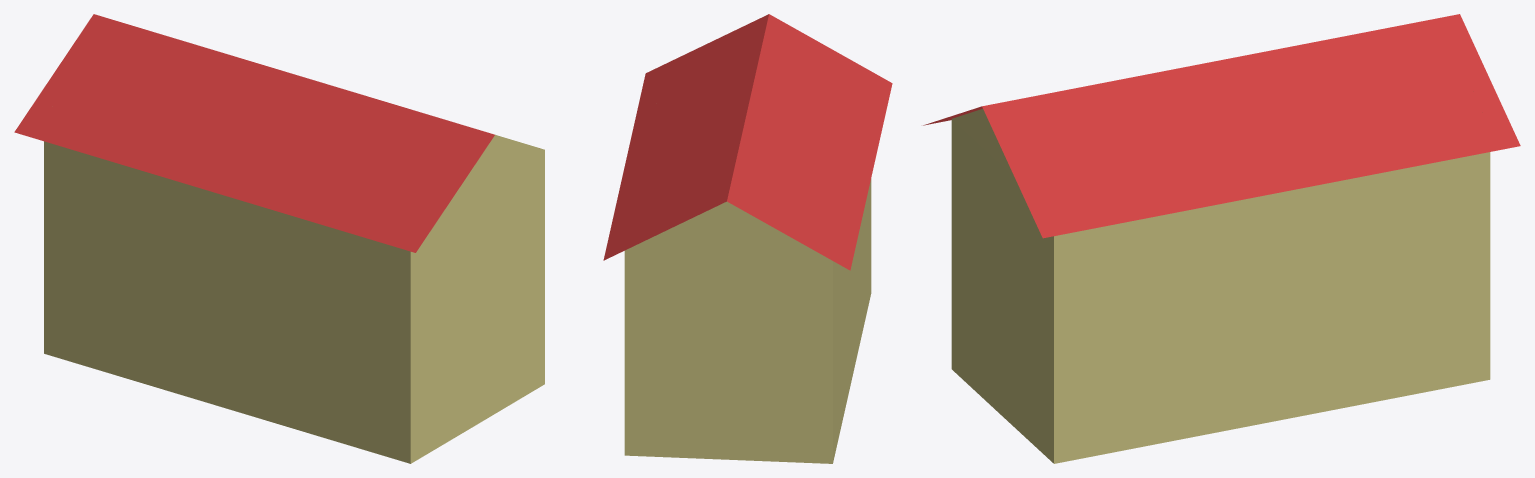
3 renders of one model, left to right at view 1: azimuth 30°, elevation 25°; view 2: azimuth 150°, elevation 25°; view 3: azimuth 270°, elevation 25°, orthographic. The views are drawn at different scales.
Bounding box in the file's own units: 10.59 × 13.1 × 7.58.
